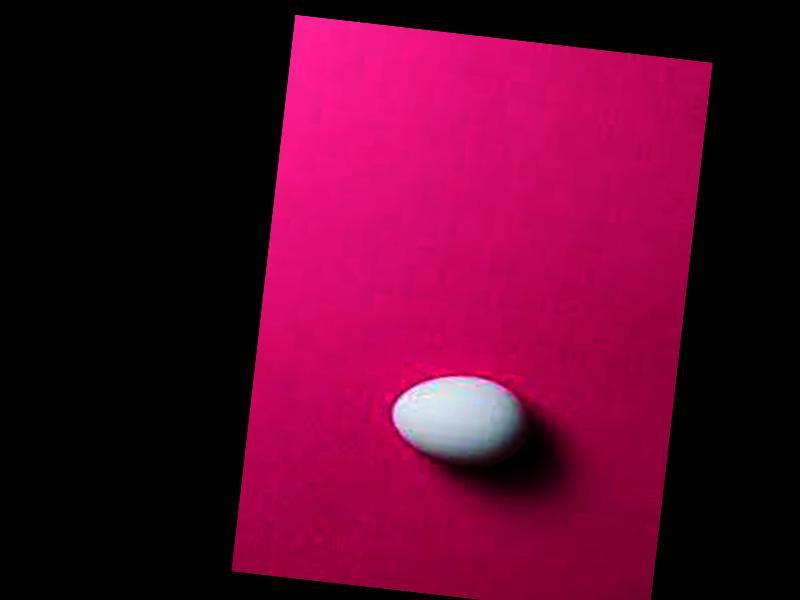Eggs: (386, 367, 534, 471)
